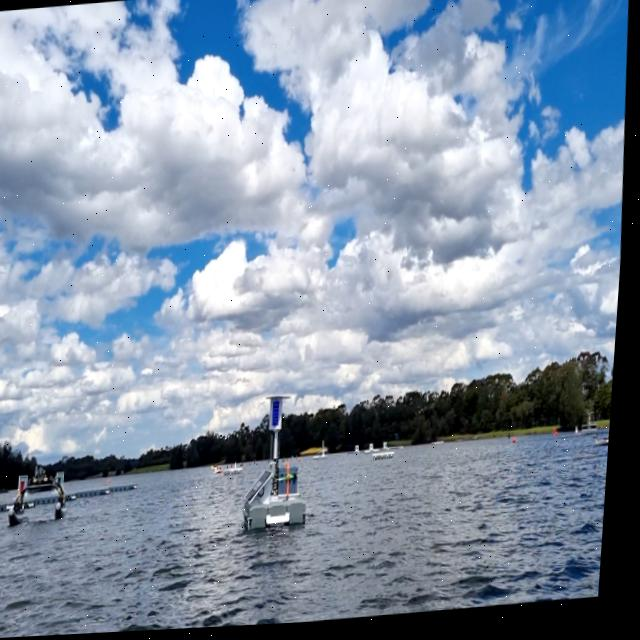led: (276, 401, 287, 431)
